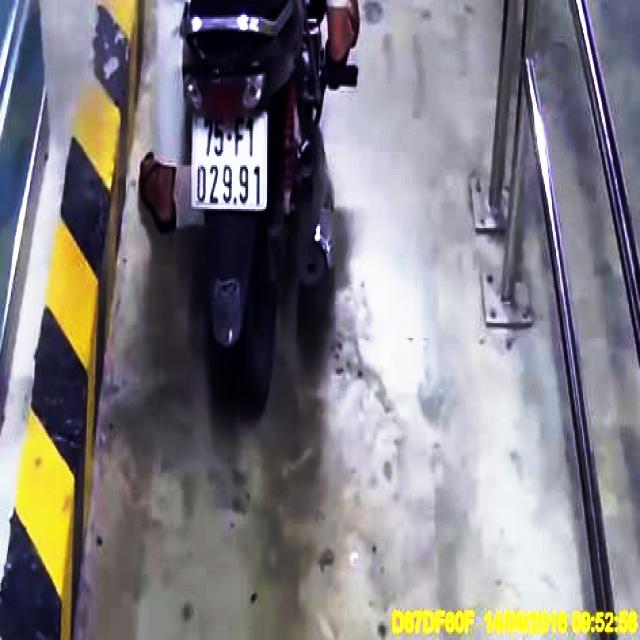license_plate: (192, 108, 269, 211)
